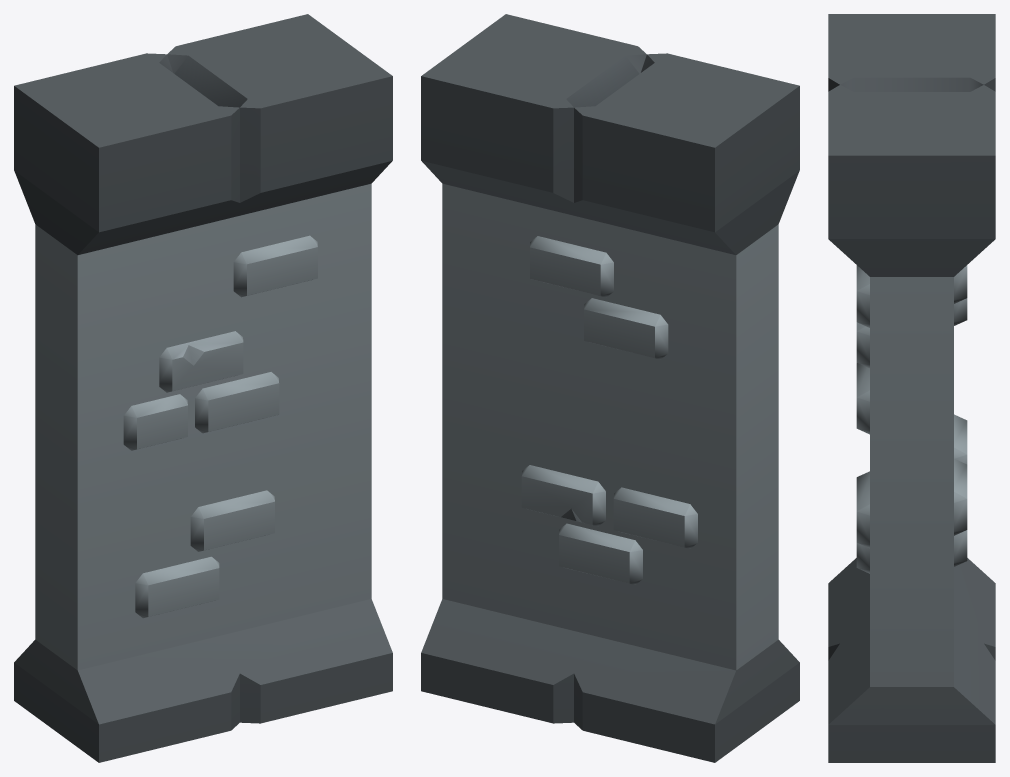
The model's file is wall_half.glb.
The picture shows the model from 3 angles, left to right: view 1: azimuth 30°, elevation 25°; view 2: azimuth 150°, elevation 25°; view 3: azimuth 270°, elevation 25°; orthographic projection.
Visible parts, largest first — view 1: wall_half; view 2: wall_half; view 3: wall_half.
Part boxes in pixels (x1=…): wall_half: x1=14, y1=14, x2=392, y2=762; wall_half: x1=421, y1=14, x2=799, y2=762; wall_half: x1=828, y1=14, x2=995, y2=762.
Size of the model in its own units: 2 by 4 by 1.
Materials: 1 (1 with a texture image).
